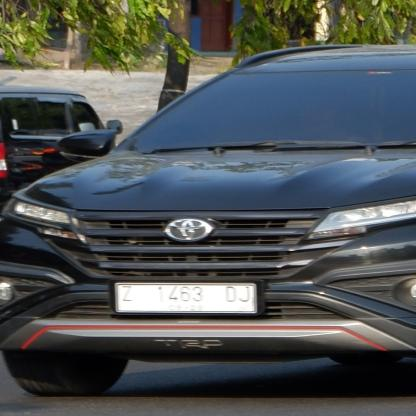Plat-Nomor: (112, 280, 264, 316)
